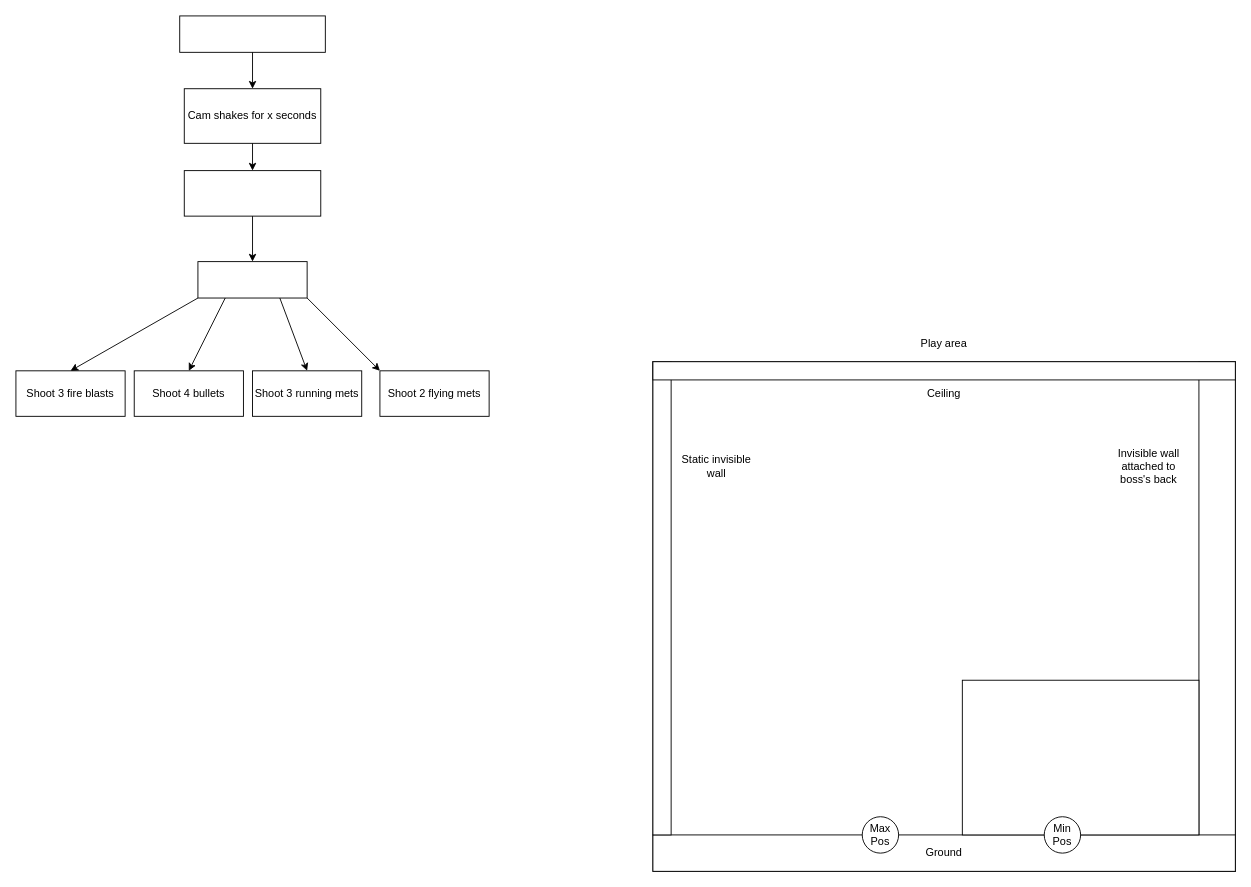
Image size: 1251x887. Some labels were removed from this diagram. The shapes that lost their labels are listed below. From the top down, each one's centre as x and y in pixels, then its label:
pixel 252 33: Boss drops to start pos
pixel 252 193: Boss health fills
pixel 252 279: At begin pos
pixel 1080 757: Guts Tank
